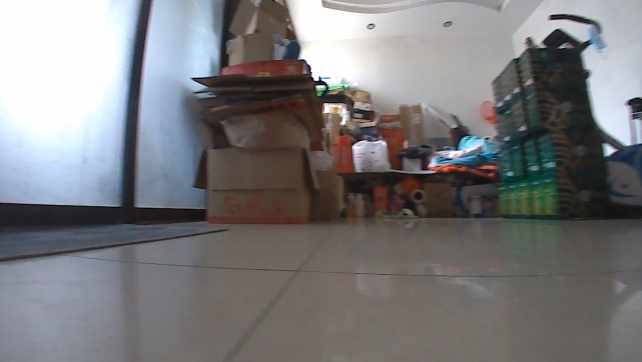blanket: (0, 220, 229, 264)
